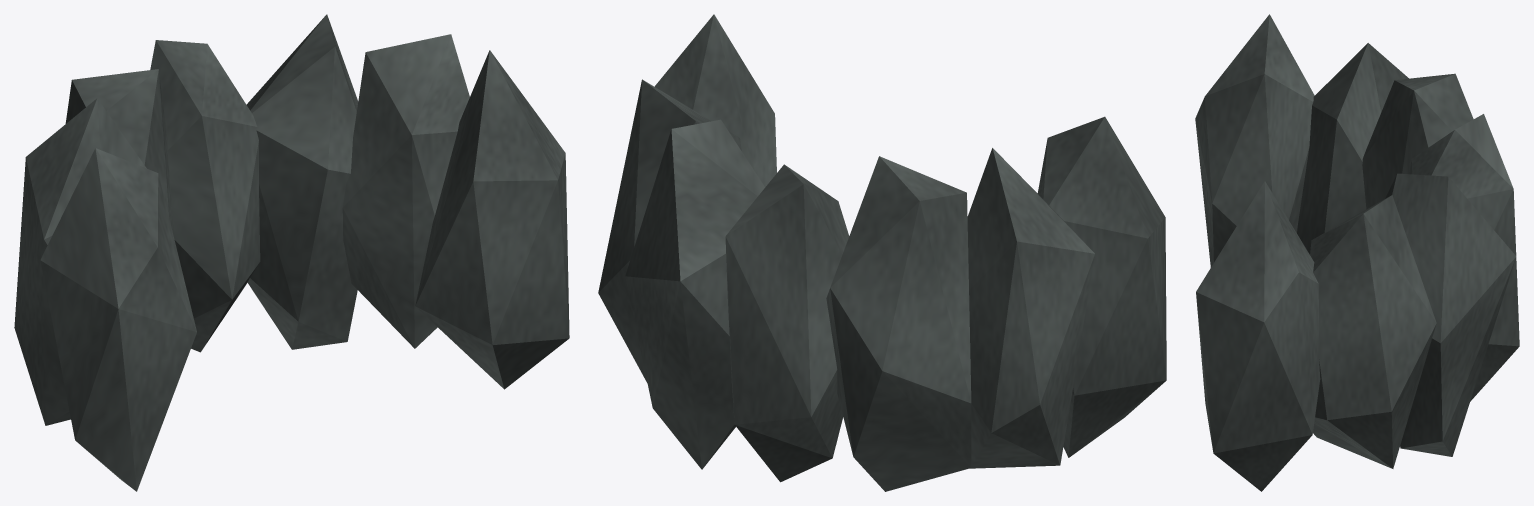
Rendered from rocks.cliff_inlet.lod2.glb.
3 views of the same model, side by side, from view 1: azimuth 30°, elevation 25°; view 2: azimuth 150°, elevation 25°; view 3: azimuth 270°, elevation 25° (orthographic). The views are drawn at different scales.
Parts seen in each view (by area): view 1: Inlet.006, Inlet, Inlet.002, Inlet.001, Inlet.003, Inlet.005, Inlet.004; view 2: Inlet.004, Inlet.005, Inlet.003, Inlet.002, Inlet.006, Inlet.001, Inlet; view 3: Inlet, Inlet.001, Inlet.002, Inlet.006, Inlet.005, Inlet.003, Inlet.004.
Part boxes in pixels (box(x1,y1,x2,y2)): Inlet.006: box(40, 148, 196, 491); Inlet: box(415, 50, 569, 389); Inlet.002: box(246, 14, 358, 349); Inlet.001: box(342, 34, 469, 348); Inlet.003: box(150, 40, 260, 352); Inlet.005: box(14, 98, 146, 425); Inlet.004: box(65, 69, 173, 236); Inlet.004: box(826, 156, 971, 491); Inlet.005: box(967, 148, 1094, 468); Inlet.003: box(725, 164, 849, 482); Inlet.002: box(625, 119, 764, 469); Inlet.006: box(1037, 116, 1166, 457); Inlet.001: box(598, 79, 741, 382); Inlet: box(654, 14, 776, 187); Inlet: box(1196, 181, 1320, 491); Inlet.001: box(1310, 195, 1436, 468); Inlet.002: box(1385, 173, 1516, 456); Inlet.006: box(1195, 14, 1314, 267); Inlet.005: box(1297, 43, 1408, 254); Inlet.003: box(1409, 114, 1519, 401); Inlet.004: box(1362, 73, 1473, 209).
Size of the model in its own units: 13.43 by 8.81 by 8.17.
1 material, 1 textured.
